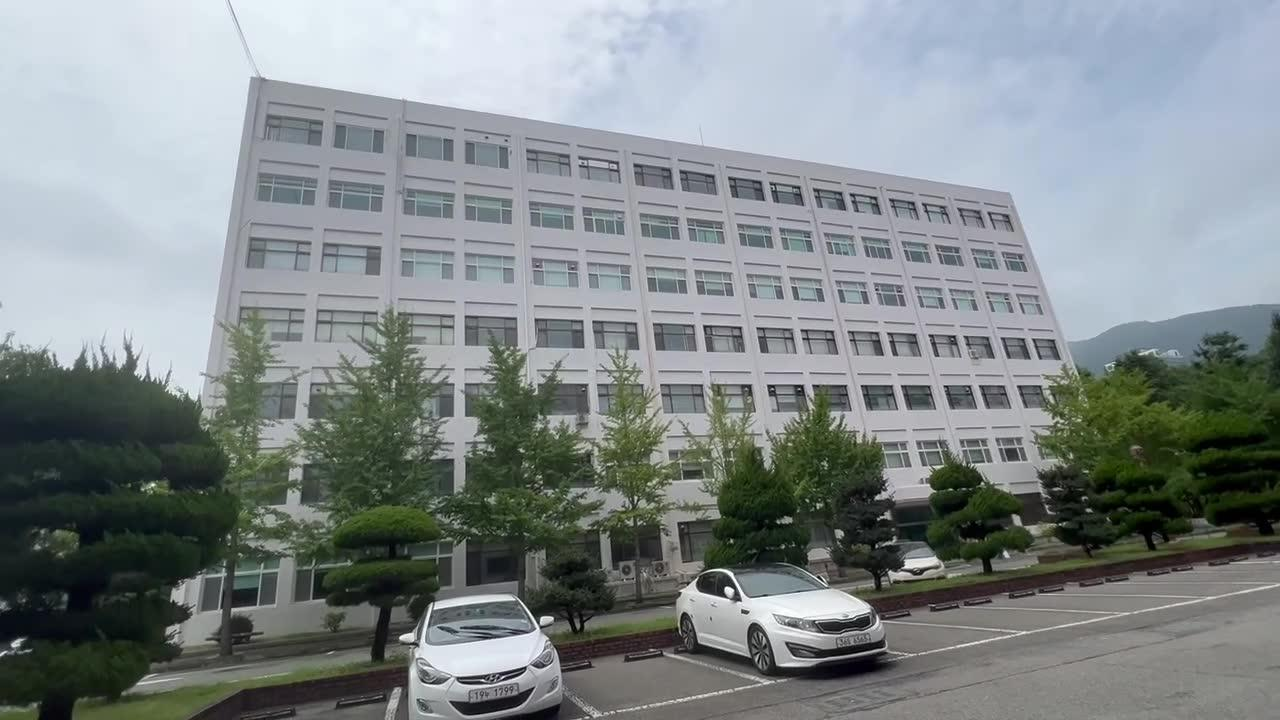building: (211, 84, 1052, 352)
